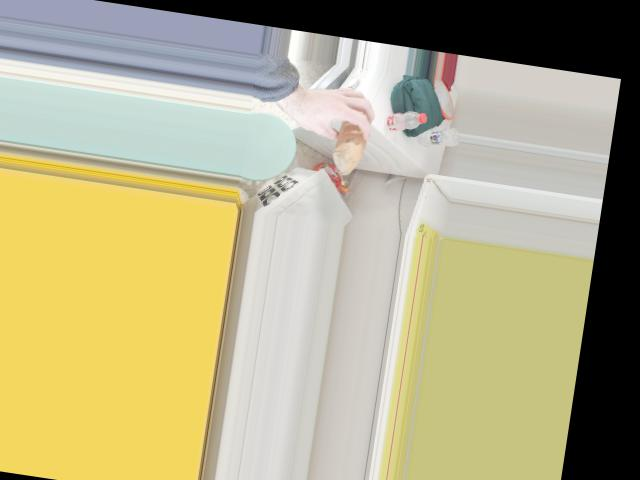sweet_potato: (326, 109, 368, 160)
